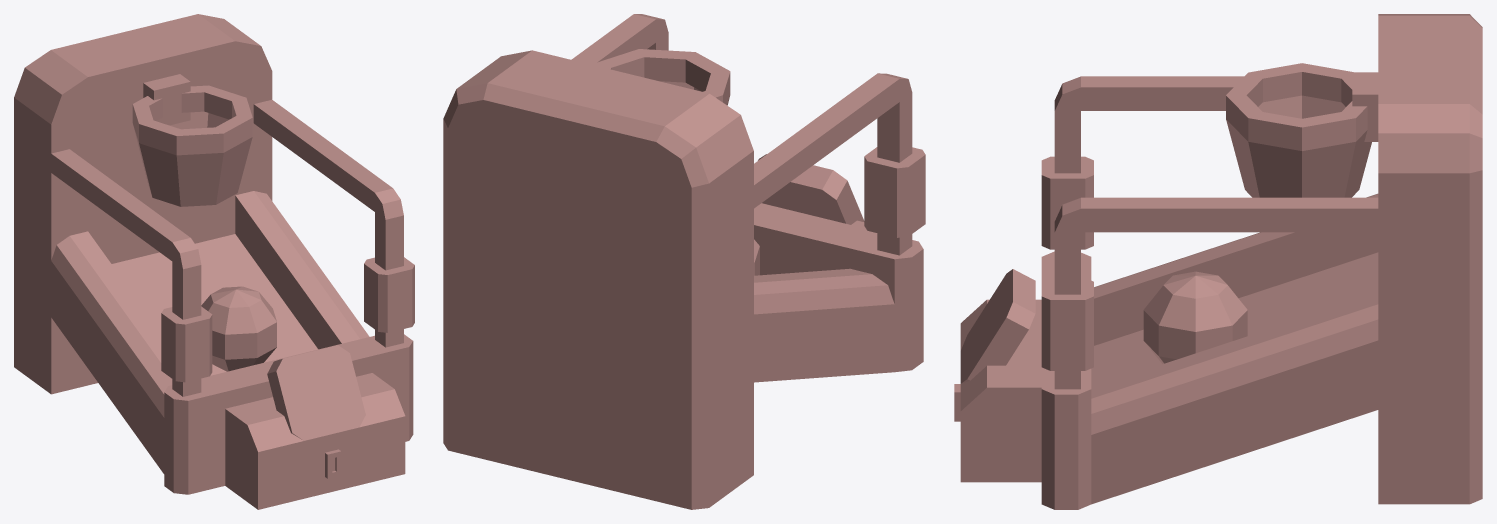
The model's file is basketball-game.obj.
3 views of the same model, side by side, from view 1: azimuth 30°, elevation 25°; view 2: azimuth 150°, elevation 25°; view 3: azimuth 270°, elevation 25° (orthographic). The views are drawn at different scales.
Size of the model in its own units: 0.65 by 0.8 by 1.01.
